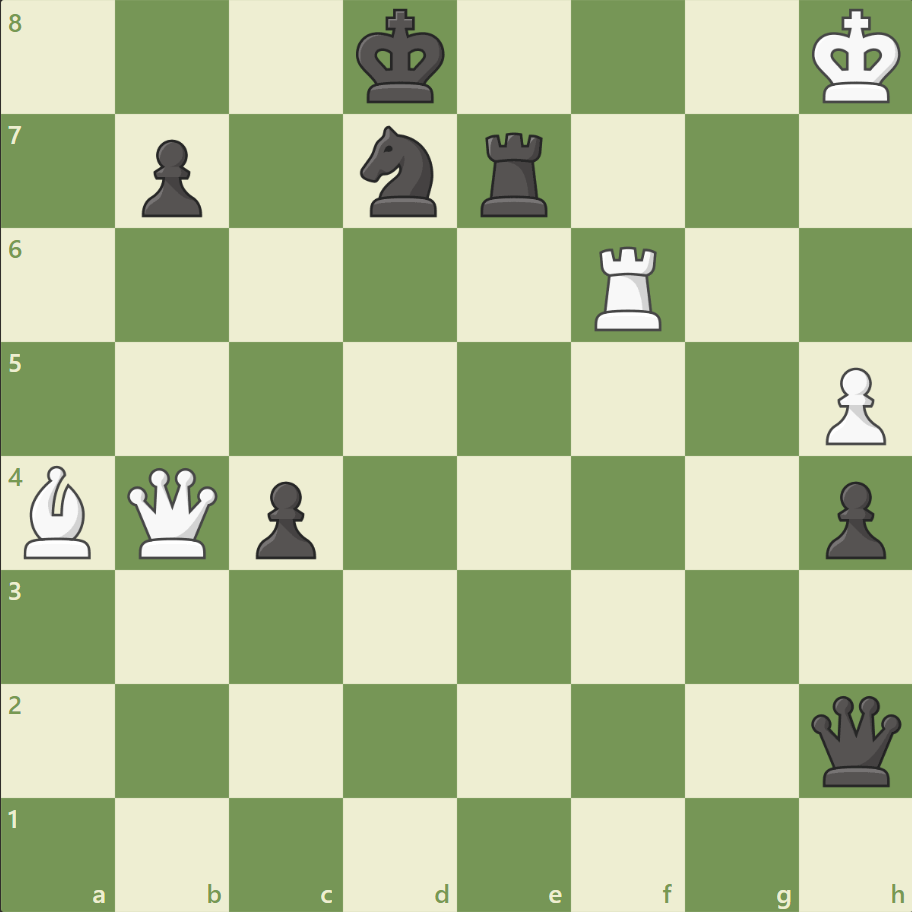B: (17, 460, 101, 563)
K: (806, 4, 906, 112)
P: (815, 359, 889, 450)
Q: (124, 463, 223, 562)
R: (587, 239, 670, 336)
k: (351, 4, 451, 112)
n: (351, 121, 449, 223)
p: (133, 132, 208, 223), (247, 473, 322, 564), (815, 473, 889, 564)
q: (805, 690, 904, 789)
r: (473, 125, 556, 222)
